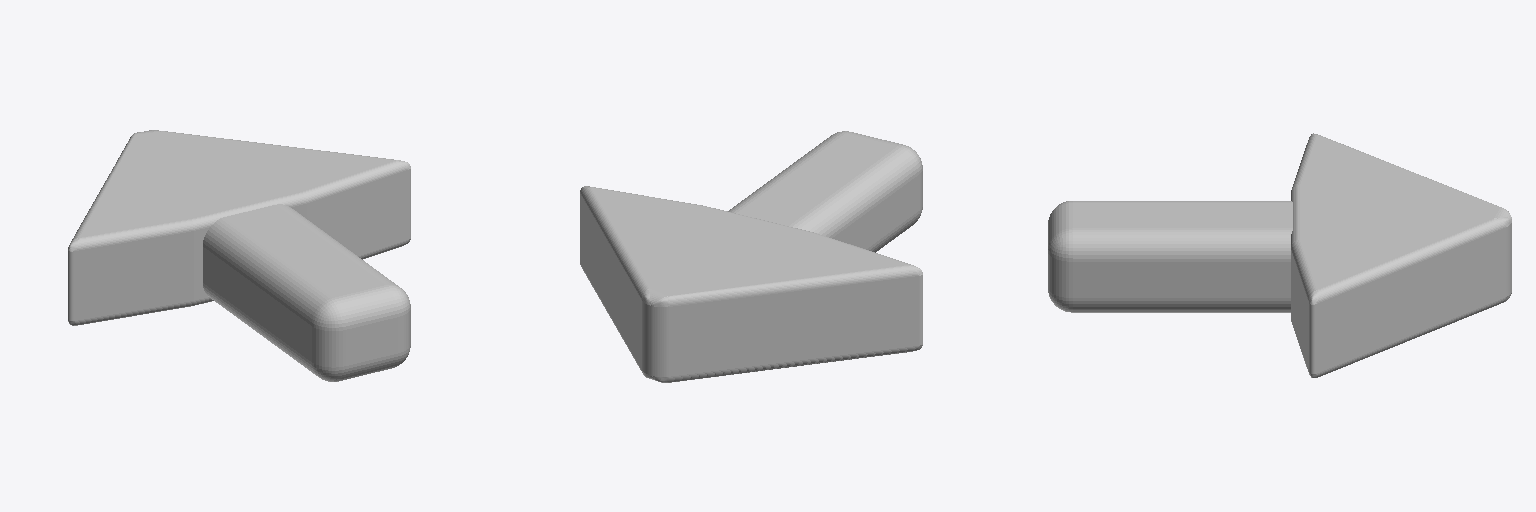
Rendered from arrow.obj.
3 renders of one model, left to right at view 1: azimuth 30°, elevation 25°; view 2: azimuth 150°, elevation 25°; view 3: azimuth 270°, elevation 25°, orthographic.
Visible parts, largest first — view 1: Plane.001_Plane.005, Plane_Plane.006; view 2: Plane.001_Plane.005, Plane_Plane.006; view 3: Plane.001_Plane.005, Plane_Plane.006.
Boxes of the visible parts, x1=… form: Plane.001_Plane.005: x1=68, y1=130, x2=410, y2=325; Plane_Plane.006: x1=203, y1=204, x2=410, y2=381; Plane.001_Plane.005: x1=580, y1=186, x2=922, y2=382; Plane_Plane.006: x1=728, y1=131, x2=922, y2=252; Plane.001_Plane.005: x1=1291, y1=133, x2=1511, y2=377; Plane_Plane.006: x1=1048, y1=201, x2=1292, y2=312.
Size of the model in its own units: 1.66 by 0.4004 by 1.95.